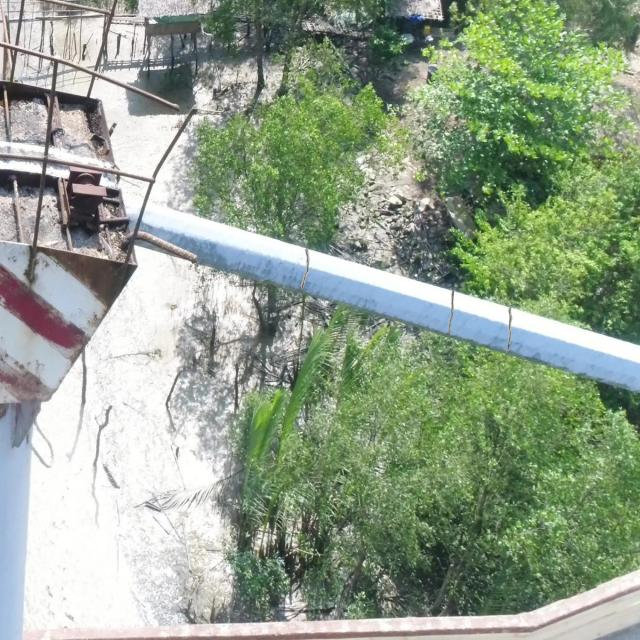crack: (504, 307, 514, 354), (301, 247, 310, 292), (447, 290, 456, 335)
